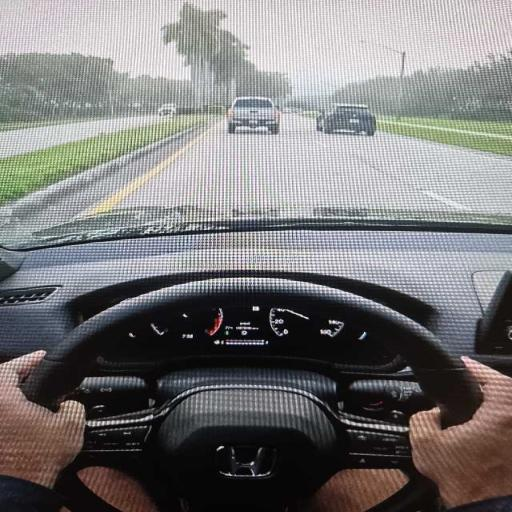car: (228, 97, 279, 133), (316, 104, 375, 135), (158, 104, 176, 116)
lane: (116, 115, 511, 213), (0, 116, 159, 159)
person: (410, 359, 511, 511)
